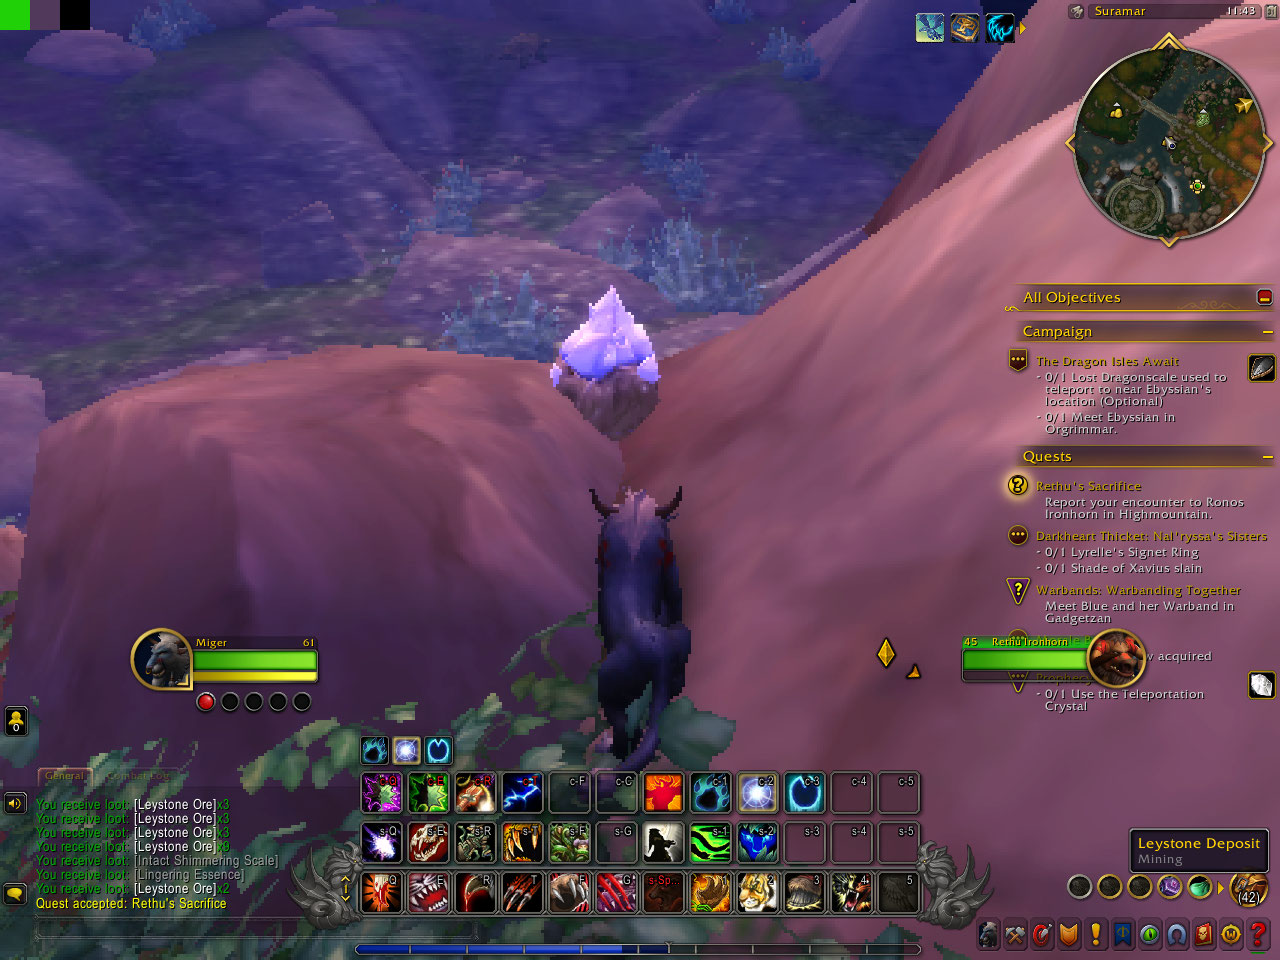ore: (546, 284, 660, 442)
